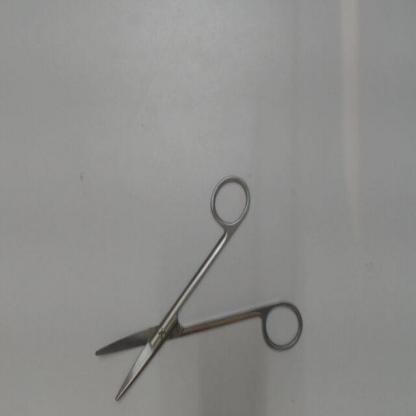Curved Mayo Scissors: (87, 166, 308, 408)
